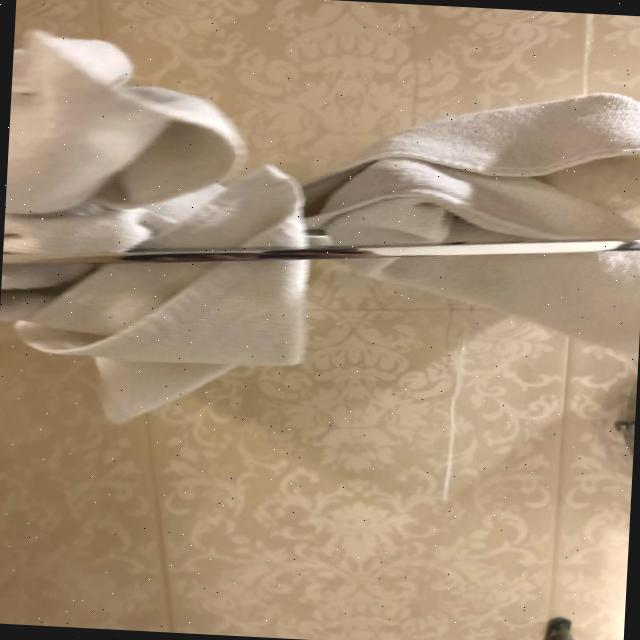disorganized_towel: (0, 34, 640, 426)
